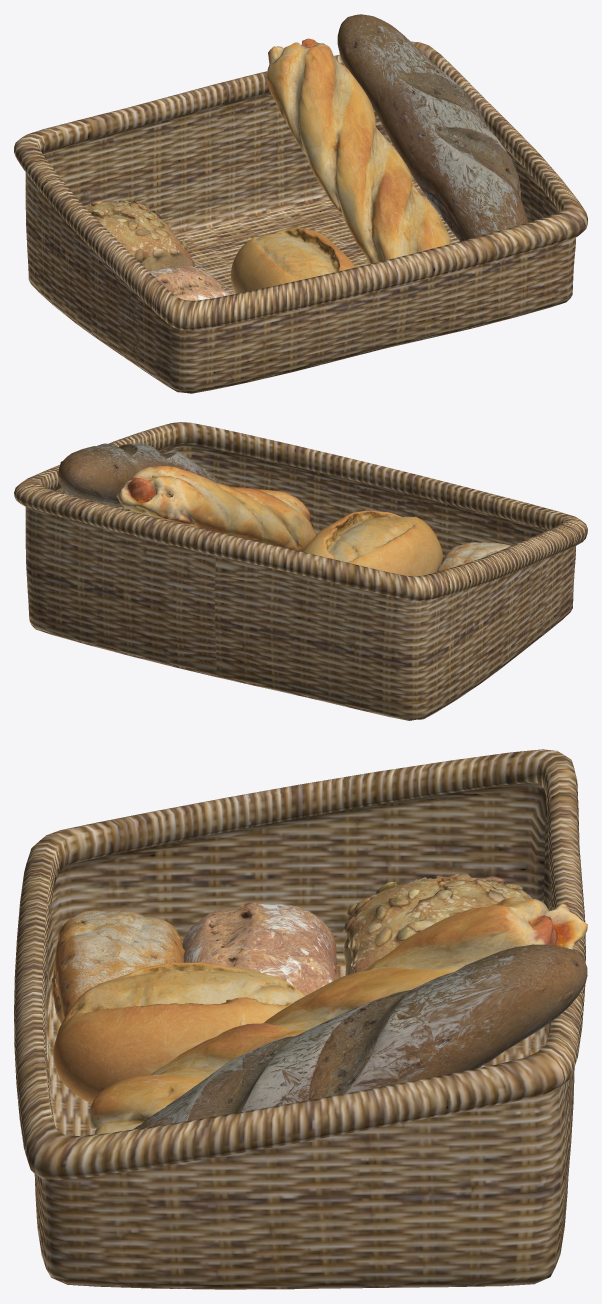
File: MultiBread_Rack_Optimized.gltf
The picture shows the model from 3 angles, top to bottom: view 1: azimuth 30°, elevation 25°; view 2: azimuth 150°, elevation 25°; view 3: azimuth 270°, elevation 25°; orthographic projection. The views are drawn at different scales.
Visible parts, largest first — view 1: Object001, 3DBread011_SQ, 3DPastry002_SQ, 3DBread007_SQ, 3DBread001_SQ, 3DBread009_SQ; view 2: Object001, 3DPastry002_SQ, 3DBread007_SQ, 3DBread011_SQ, 3DBread008_SQ; view 3: Object001, 3DBread011_SQ, 3DPastry002_SQ, 3DBread007_SQ, 3DBread009_SQ, 3DBread001_SQ, 3DBread008_SQ.
Part boxes in pixels (box(x1,y1,x2,y2)): Object001: box(14, 41, 587, 393); 3DBread011_SQ: box(337, 14, 528, 241); 3DPastry002_SQ: box(265, 38, 450, 263); 3DBread007_SQ: box(230, 227, 355, 293); 3DBread001_SQ: box(84, 200, 194, 271); 3DBread009_SQ: box(149, 265, 230, 300); Object001: box(14, 422, 587, 720); 3DPastry002_SQ: box(116, 466, 315, 551); 3DBread007_SQ: box(302, 510, 442, 576); 3DBread011_SQ: box(58, 443, 224, 507); 3DBread008_SQ: box(437, 542, 510, 571); Object001: box(14, 749, 585, 1289); 3DBread011_SQ: box(133, 944, 587, 1129); 3DPastry002_SQ: box(89, 897, 587, 1134); 3DBread007_SQ: box(53, 962, 305, 1103); 3DBread009_SQ: box(182, 902, 338, 995); 3DBread001_SQ: box(343, 873, 549, 1031); 3DBread008_SQ: box(51, 910, 184, 1023).
Bounding box in the file's own units: 0.5444 × 0.2228 × 0.393.
7 materials, 7 textured.
